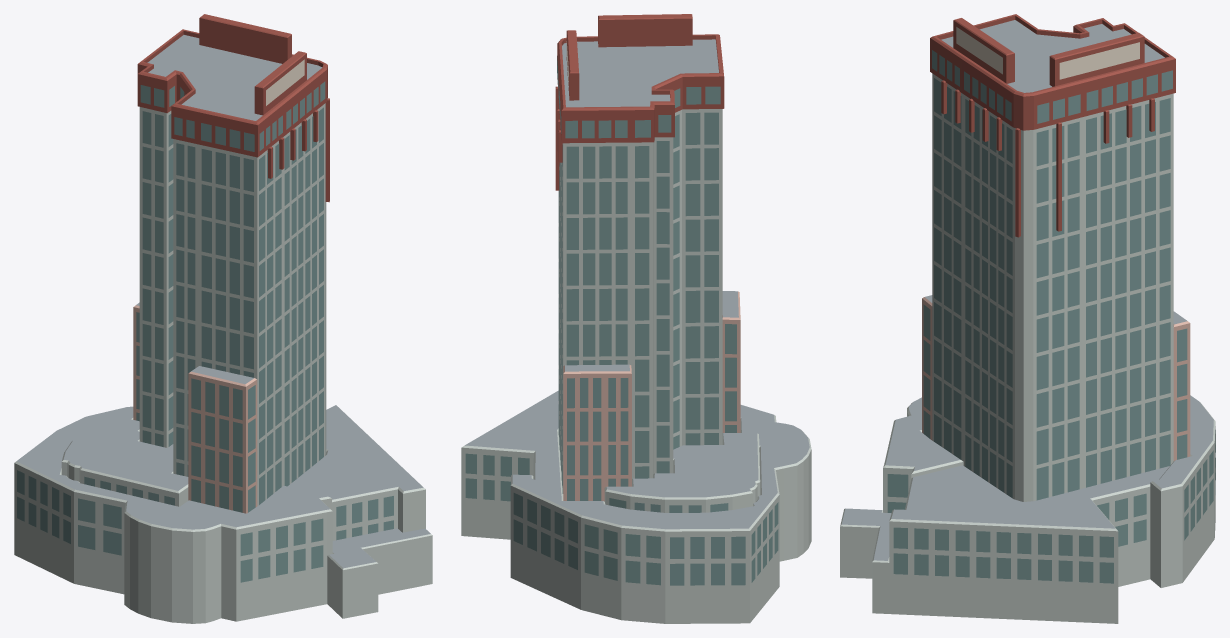
The model's file is niagara-embassy-suites.glb.
The picture shows the model from 3 angles, left to right: view 1: azimuth 30°, elevation 25°; view 2: azimuth 150°, elevation 25°; view 3: azimuth 270°, elevation 25°; orthographic projection. The views are drawn at different scales.
Parts seen in each view (by area): view 1: Embassy Suites Niagara Falls Fallsview; view 2: Embassy Suites Niagara Falls Fallsview; view 3: Embassy Suites Niagara Falls Fallsview.
Part boxes in pixels (x1,y1,x2,y2): Embassy Suites Niagara Falls Fallsview: [14, 14, 432, 623]; Embassy Suites Niagara Falls Fallsview: [461, 14, 811, 623]; Embassy Suites Niagara Falls Fallsview: [840, 14, 1215, 623].
Size of the model in its own units: 80.07 by 126 by 81.15.
